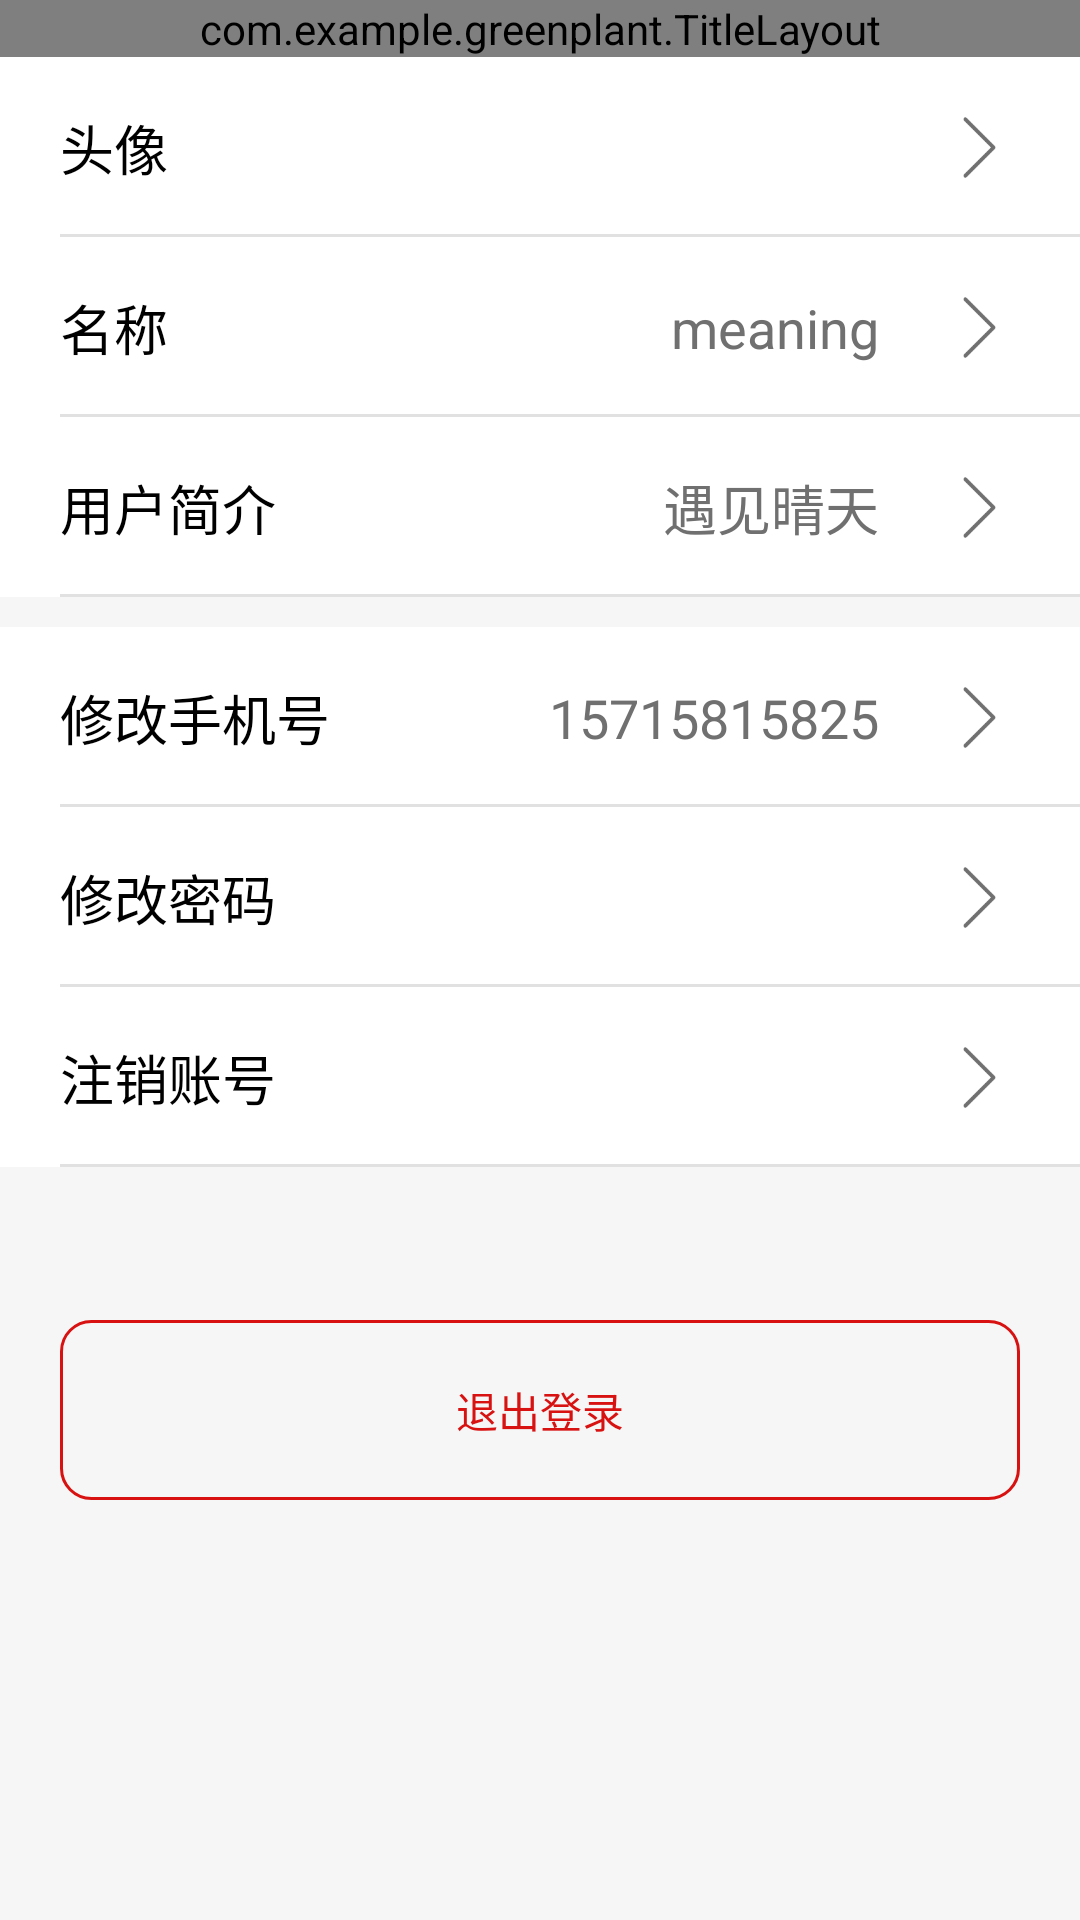

Icon click points for this 1080px x 1920px phone screenshot, format point (x, y):
right warding: point (979, 147), point (979, 327), point (979, 507), point (979, 717), point (979, 897), point (979, 1077)
